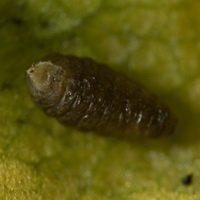insect: (26, 55, 175, 137)
